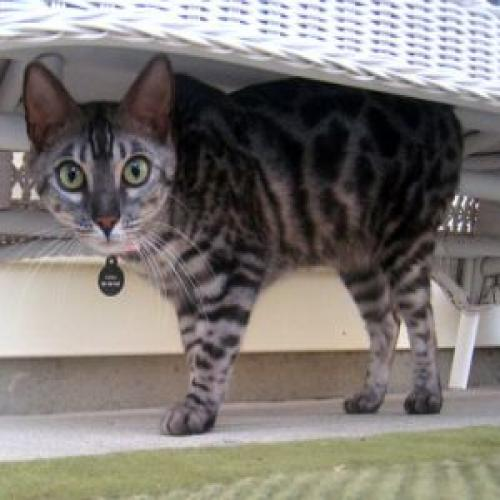bengal: (6, 45, 201, 271)
